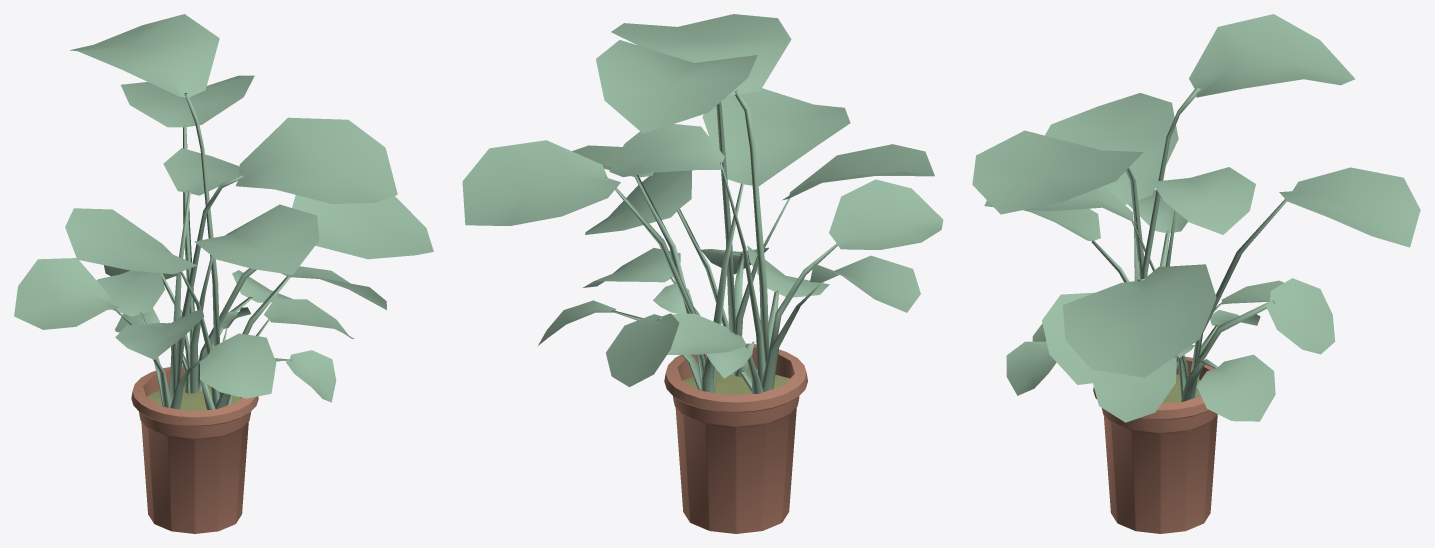
The model's file is ZWHH05.FBX.
3 views of the same model, side by side, from view 1: azimuth 30°, elevation 25°; view 2: azimuth 150°, elevation 25°; view 3: azimuth 270°, elevation 25° (orthographic). The views are drawn at different scales.
Visible parts, largest first — view 1: ZWHH05; view 2: ZWHH05; view 3: ZWHH05.
Part boxes in pixels (left/top/right/bottom): ZWHH05: left=14, top=14, right=433, bottom=533; ZWHH05: left=462, top=14, right=943, bottom=533; ZWHH05: left=972, top=14, right=1420, bottom=533.
Bounding box in the file's own units: 98.75 × 92.66 × 106.
